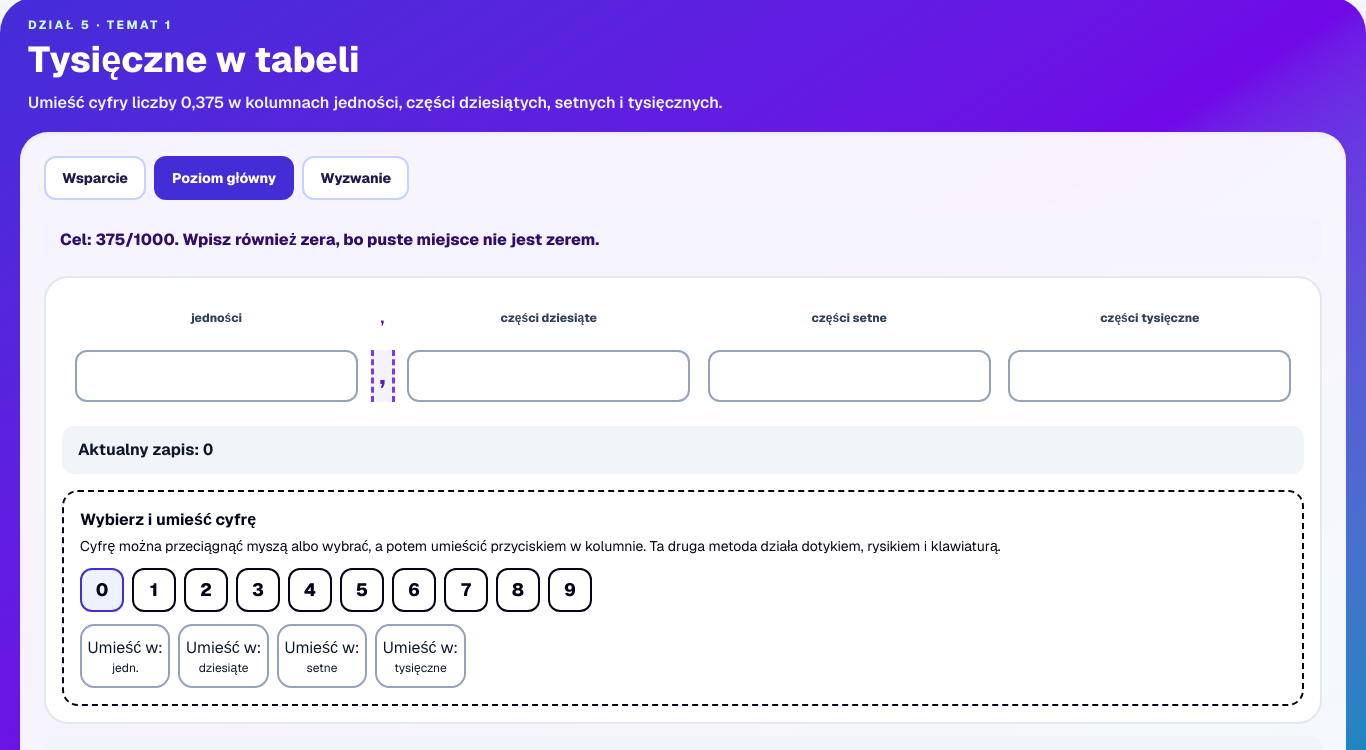
Test: DecimalNotationL2Lab przez lokalny adapter L1 › obsługuje tabelę do tysięcznych dotykiem i klawiaturą
The width and height of the screenshot is (1366, 750).
In the field named "jedności, cyfra": (216, 376) [75,350,358,402], type "0"
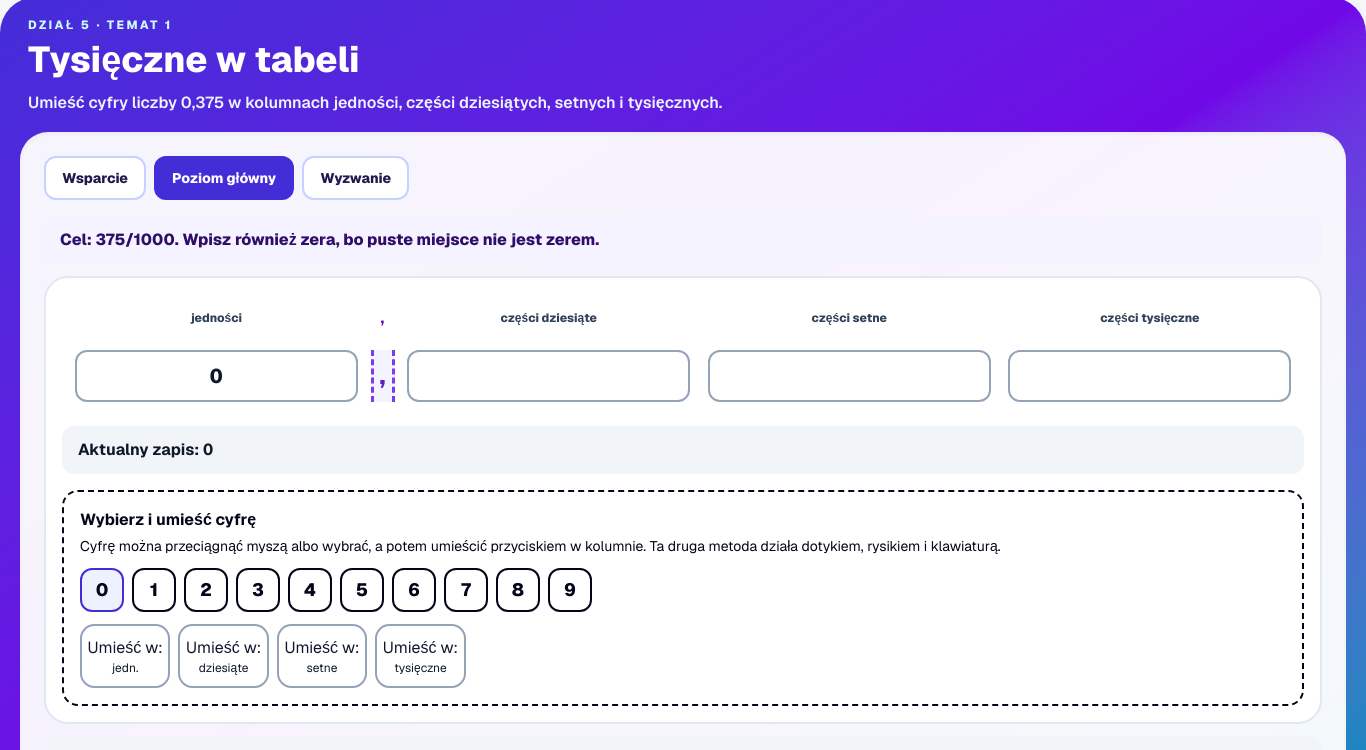
In the field named "części dziesiąte, cyfra": (549, 376) [407,350,690,402], type "3"
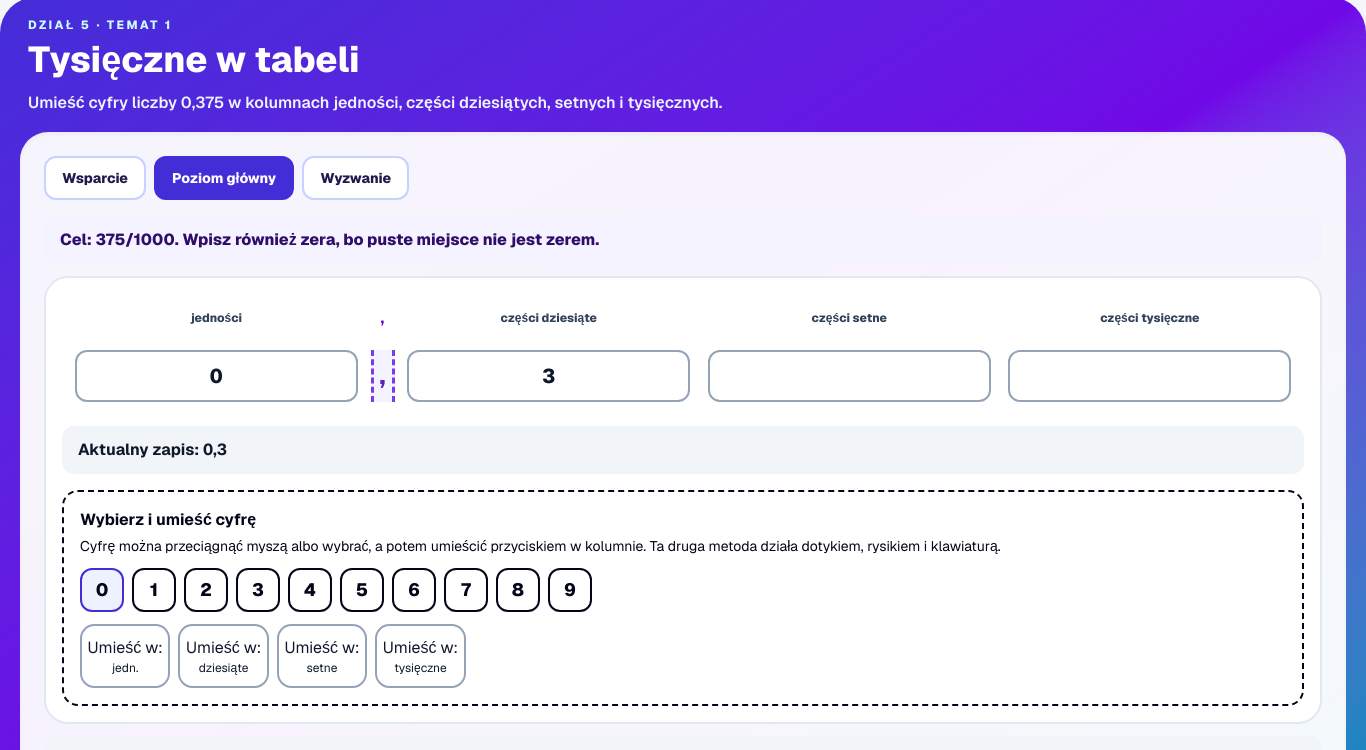
In the field named "części setne, cyfra": (849, 376) [708,350,991,402], type "7"
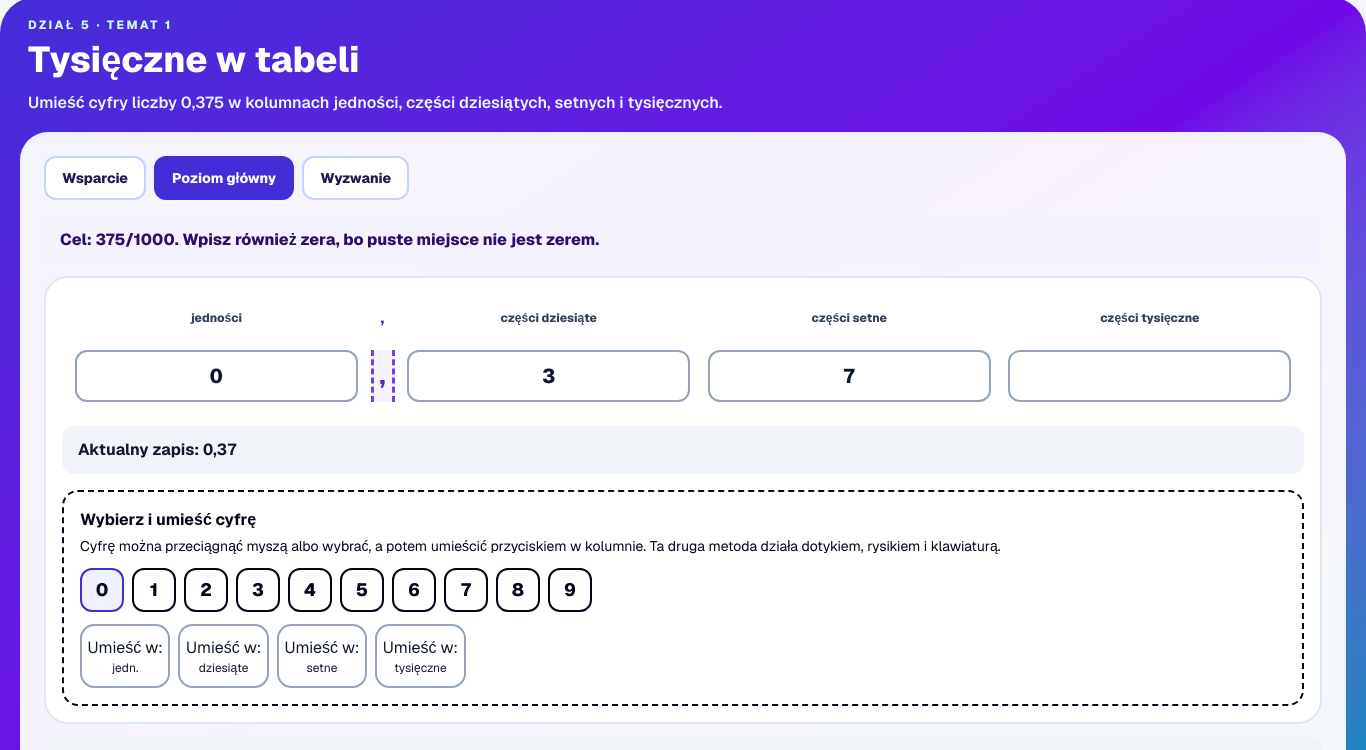
In the field named "części tysięczne, cyfra": (1150, 376) [1008,350,1291,402], type "5"
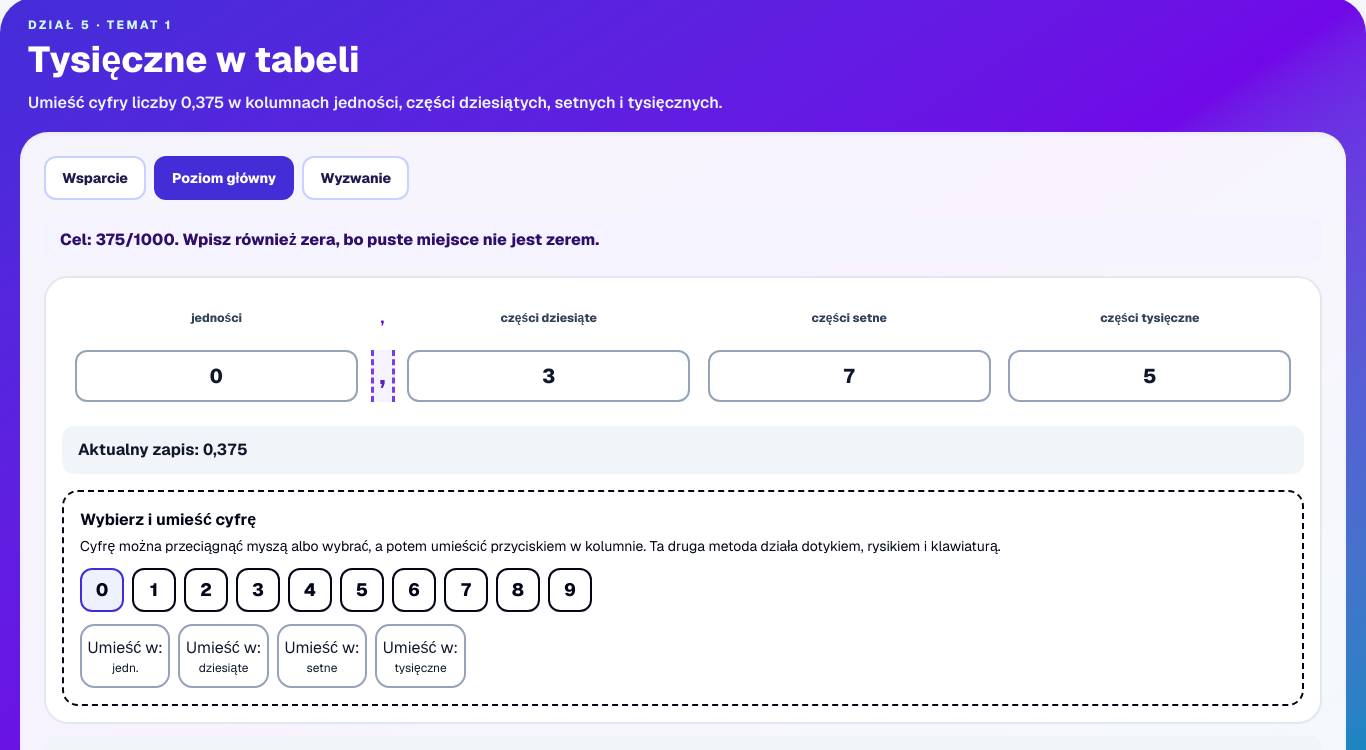
Press ArrowRight in the field named "części setne, cyfra", box [708,350,991,402]
(page scrolled)
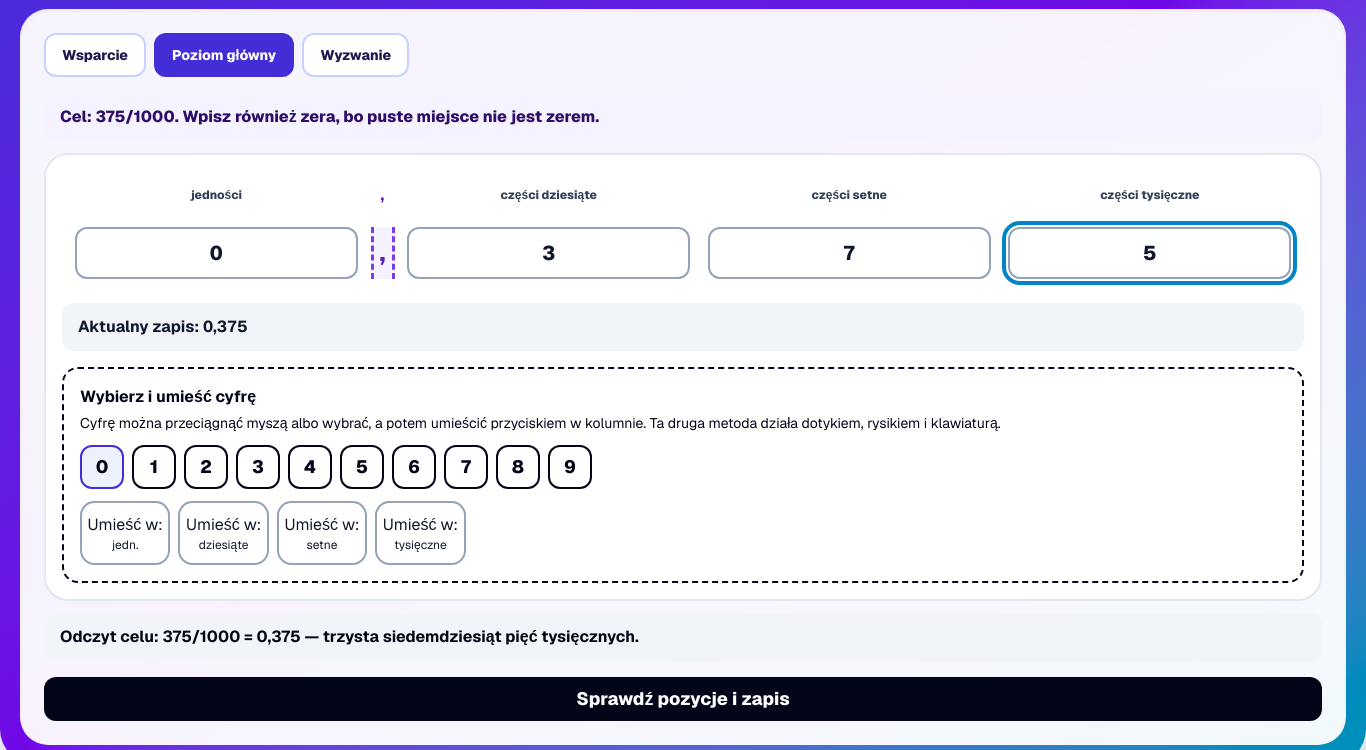
Click the button "Sprawdź pozycje i zapis": (683, 699) [44,677,1322,721]
(page scrolled)
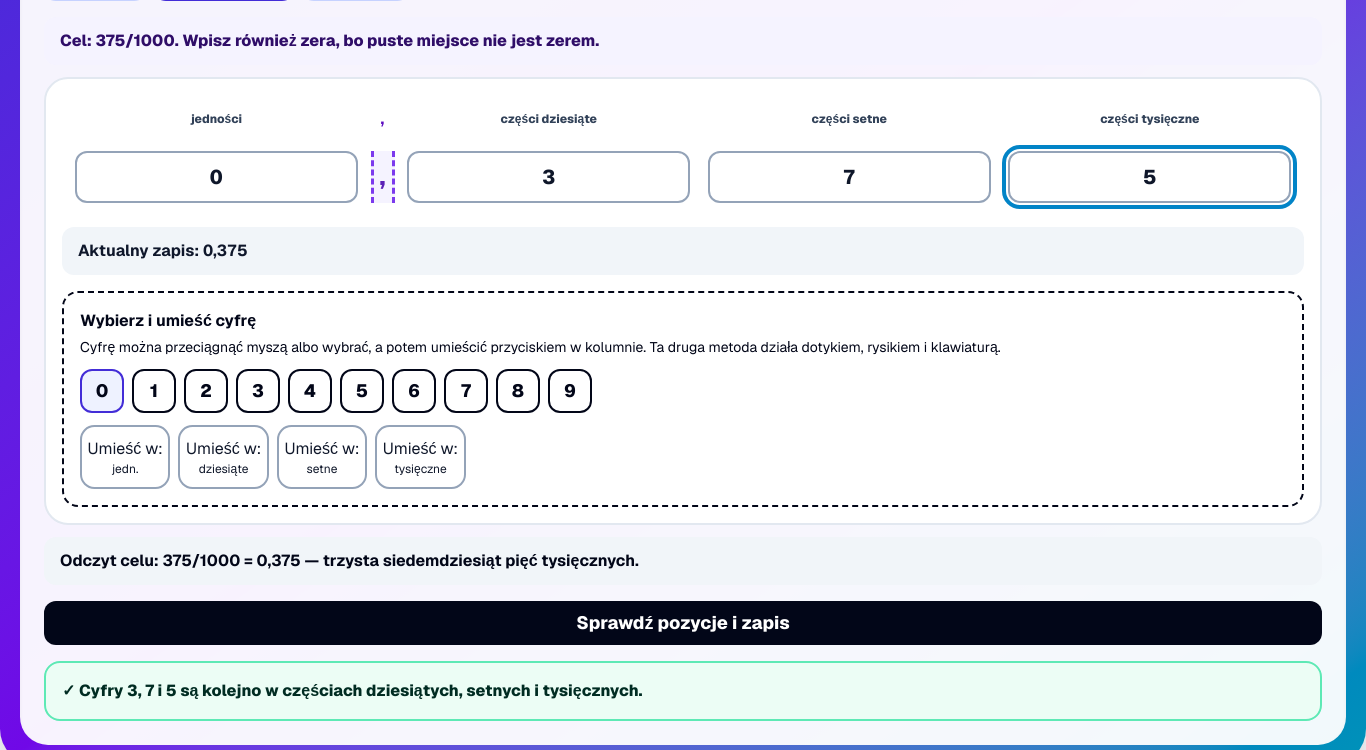
Expected: the message shows "częściach dziesiątych, setnych i tysięcznych", [79,680,643,701]
